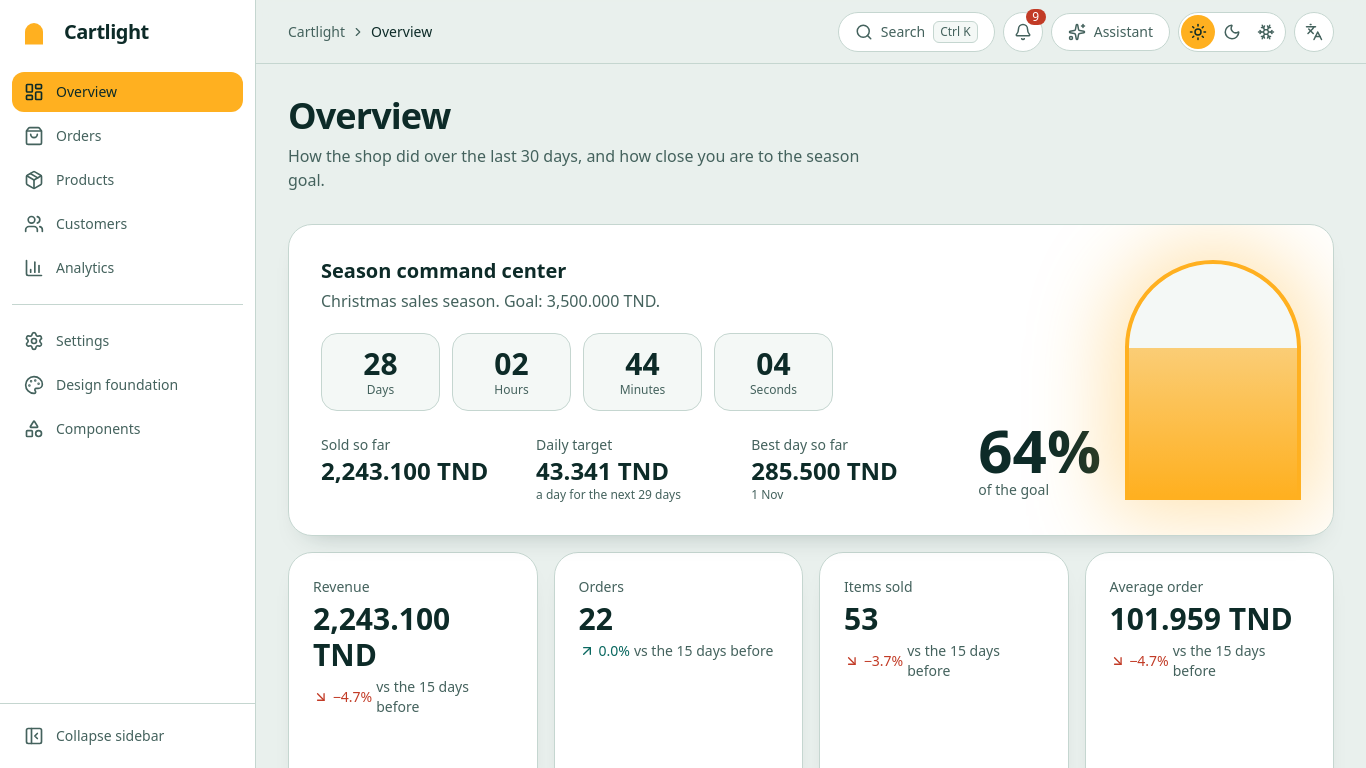
Scenario: notifications center › opens the related page, closes the panel and marks it read
Click the button named "Notifications" at point(1023, 32), box [1003,12,1043,52]
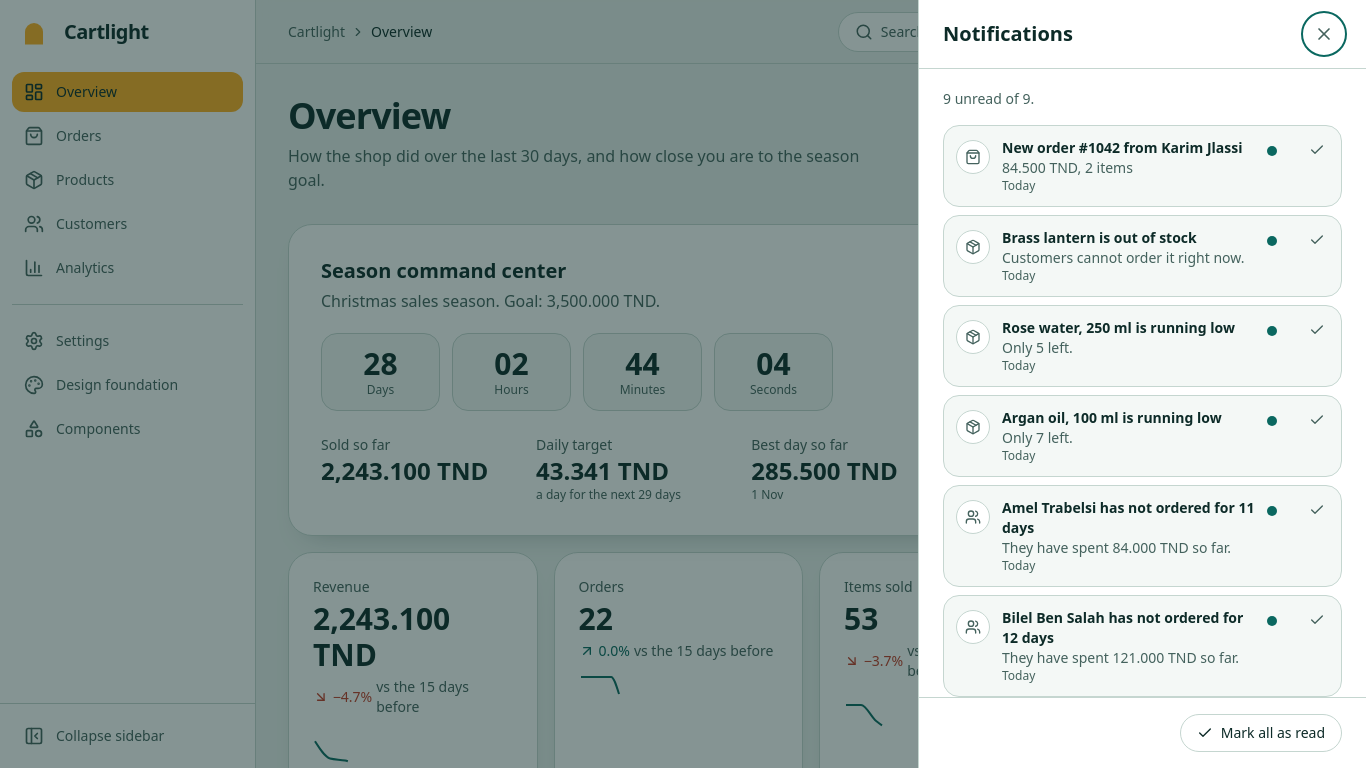
Click the link "New order #1042 from Karim Jlassi 84.500 TND, 2 items Today" at point(1116, 166), box [944,126,1289,206]
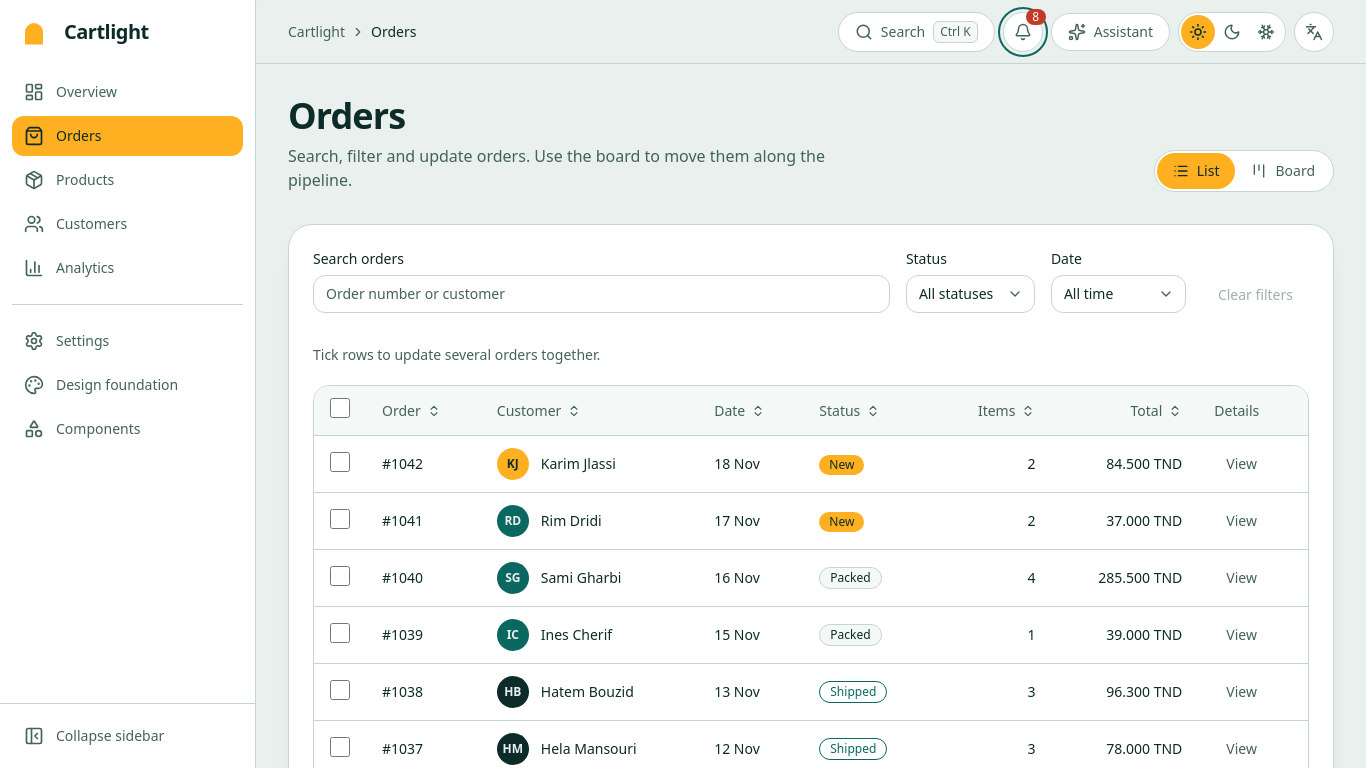
Check: the heading "Orders" is shown, box [288,91,405,140]
Check: the dialog is gone
